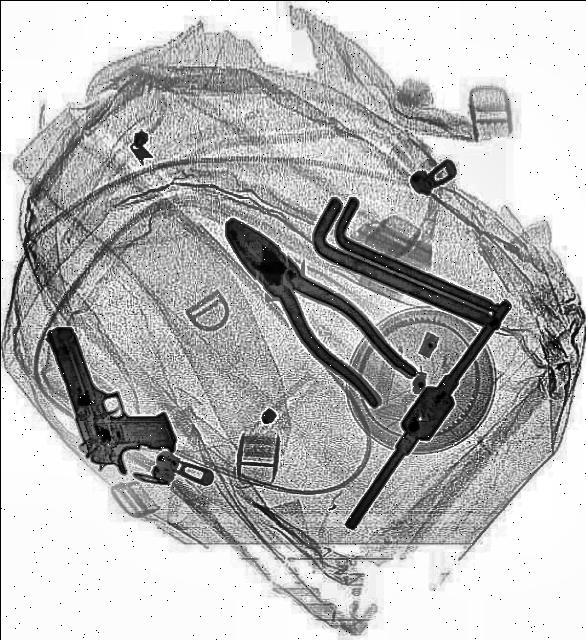Gun: (40, 302, 180, 484)
Pliers: (202, 198, 418, 414)
